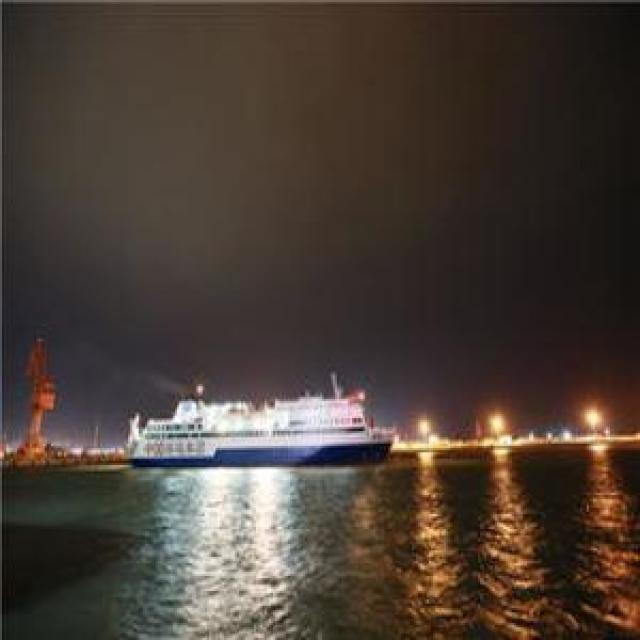passenger ship: (125, 385, 398, 465)
